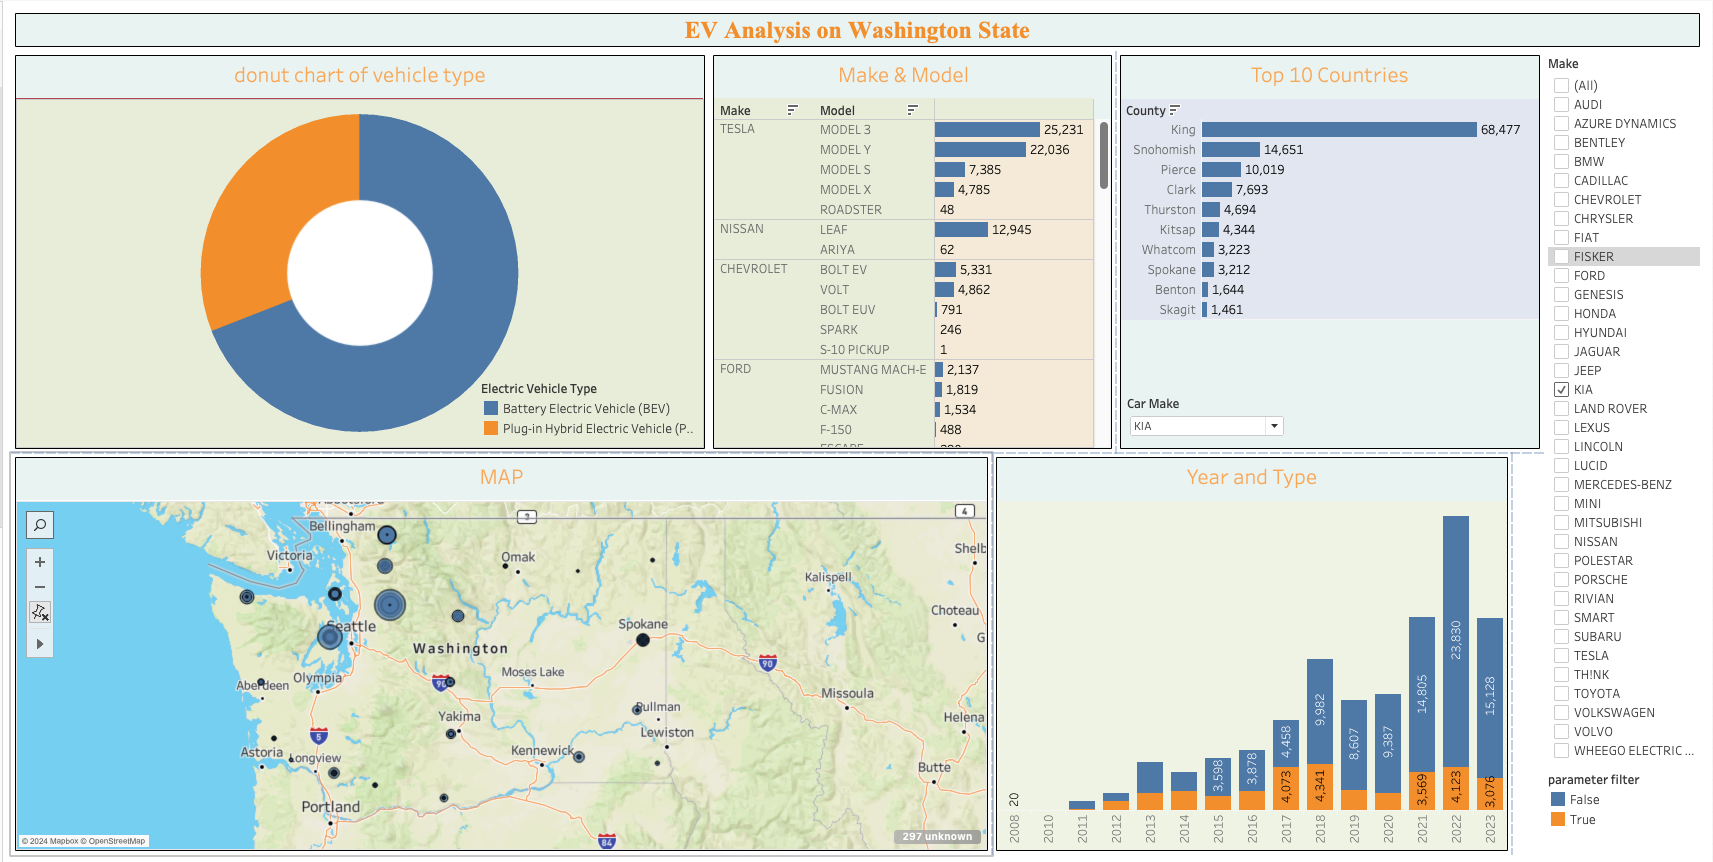

What the dashboard file says about the page in this screenshot:
{"tool":"tableau","page":{"name":"Dashboard 1","canvas":[1000,1000],"units":"permille","ordinal":0},"visuals":[{"type":"text","box":[4.7,9.3,990.6,48.7]},{"type":"worksheet","title":"Vehicle Type Donut","mark":"Pie","rows":["Calculation_752593742765359112","Calculation_752593742765359112"],"cols":["Calculation_752593742764683271"],"box":[4.7,58,408.4,466.4]},{"type":"worksheet","title":"Make & Model","mark":"Automatic","rows":["Make","Model"],"cols":["DOL Vehicle ID"],"box":[413.1,58,238.2,466.4]},{"type":"worksheet","title":"Top 10 countries","mark":"Automatic","rows":["County"],"cols":["DOL Vehicle ID"],"box":[651.3,58,250.4,466.4]},{"type":"filter","title":"Vehicle Type Donut","param":"[federated.038c8lk0wbw54v17r648a0b78fsp].[none:Make:nk]","box":[901.7,58,93.6,830.6]},{"type":"legend","title":"Vehicle Type Donut","param":"[federated.038c8lk0wbw54v17r648a0b78fsp].[none:Electric Vehicle Type:nk]","box":[279.7,439.7,128.2,71.9]},{"type":"parameter","param":"[Parameters].[Parameter 1]","box":[657.7,457.1,93.6,51]},{"type":"worksheet","title":"Map","mark":"Automatic","box":[4.7,524.4,574,466.4]},{"type":"worksheet","title":"Year and Type","mark":"Bar","rows":["DOL Vehicle ID"],"cols":["Model Year"],"box":[578.7,524.4,304.3,466.4]},{"type":"blank","box":[883,524.4,18.7,466.4]},{"type":"legend","title":"Make & Model","param":"[federated.038c8lk0wbw54v17r648a0b78fsp].[none:Calculation_752593742764683271:nk","box":[901.7,888.6,93.6,76.6]}]}

Visuals, with their boxes on the dashboard's canvas, which has no fixed pixel size, in thousandths of its width and height (x1, y1, x2, y2). These are canvas units, not pixel positions in the 1713x862 screenshot, which may show the page scaled, cropped or inside an application window:
text: x1=5 y1=9 x2=995 y2=58
"Vehicle Type Donut" worksheet (Pie marks): x1=5 y1=58 x2=413 y2=524
"Make & Model" worksheet: x1=413 y1=58 x2=651 y2=524
"Top 10 countries" worksheet: x1=651 y1=58 x2=902 y2=524
"Vehicle Type Donut" filter: x1=902 y1=58 x2=995 y2=889
"Vehicle Type Donut" legend: x1=280 y1=440 x2=408 y2=512
parameter: x1=658 y1=457 x2=751 y2=508
"Map" worksheet: x1=5 y1=524 x2=579 y2=991
"Year and Type" worksheet (Bar marks): x1=579 y1=524 x2=883 y2=991
blank: x1=883 y1=524 x2=902 y2=991
"Make & Model" legend: x1=902 y1=889 x2=995 y2=965
